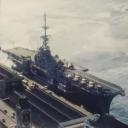Portanaves: (5, 11, 128, 115)
